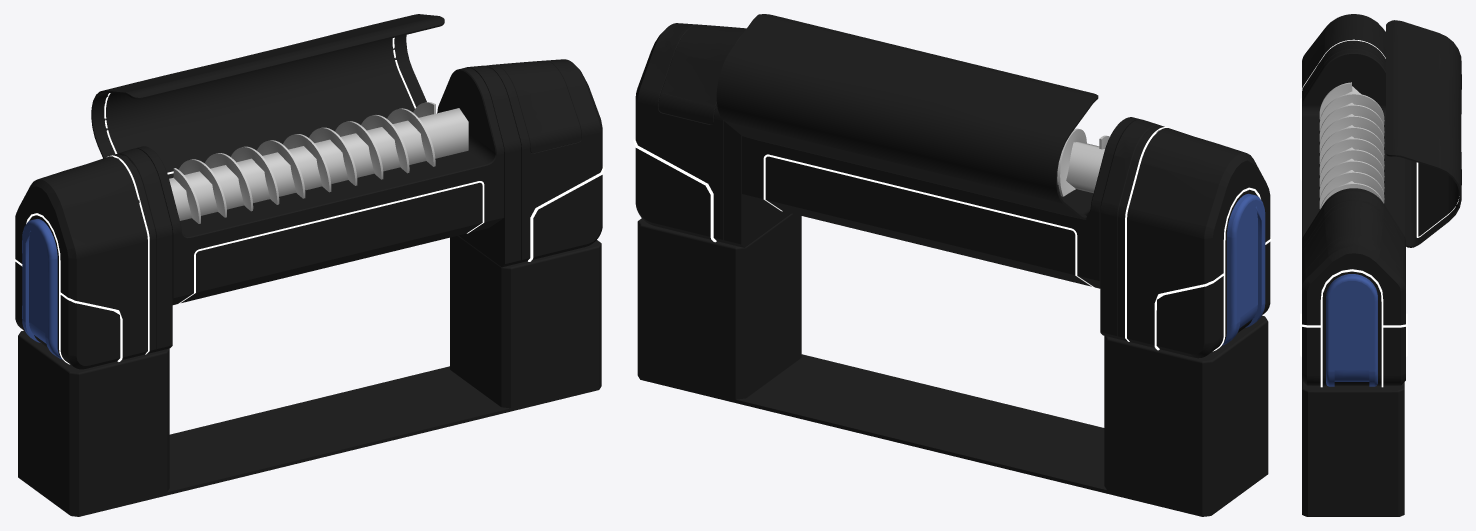
3 views of the same model, side by side, from view 1: azimuth 30°, elevation 25°; view 2: azimuth 150°, elevation 25°; view 3: azimuth 270°, elevation 25° (orthographic). The views are drawn at different scales.
Parts seen in each view (by area): view 1: オブジェクト_14; view 2: オブジェクト_14; view 3: オブジェクト_14.
Part boxes in pixels (<box>): オブジェクト_14: <box>14,14,604,516</box>; オブジェクト_14: <box>633,14,1271,516</box>; オブジェクト_14: <box>1300,14,1461,516</box>.
Size of the model in its own units: 1.8 by 1.12 by 0.5204.
